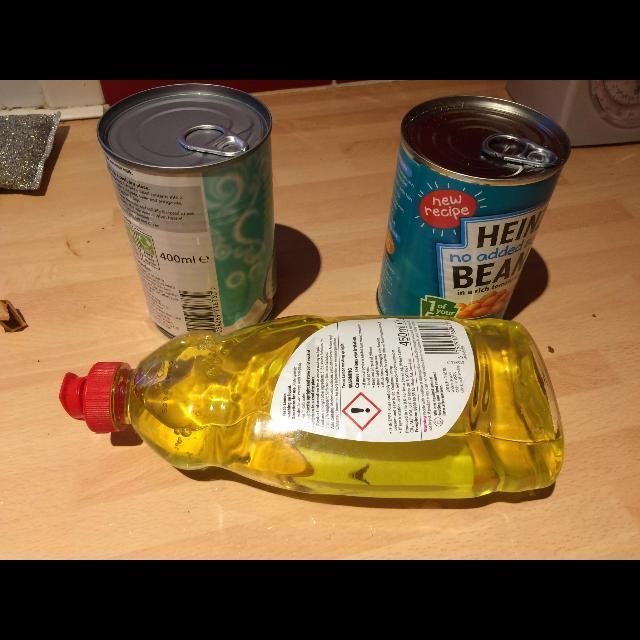Plastic: (59, 316, 564, 498), (59, 362, 123, 432)
